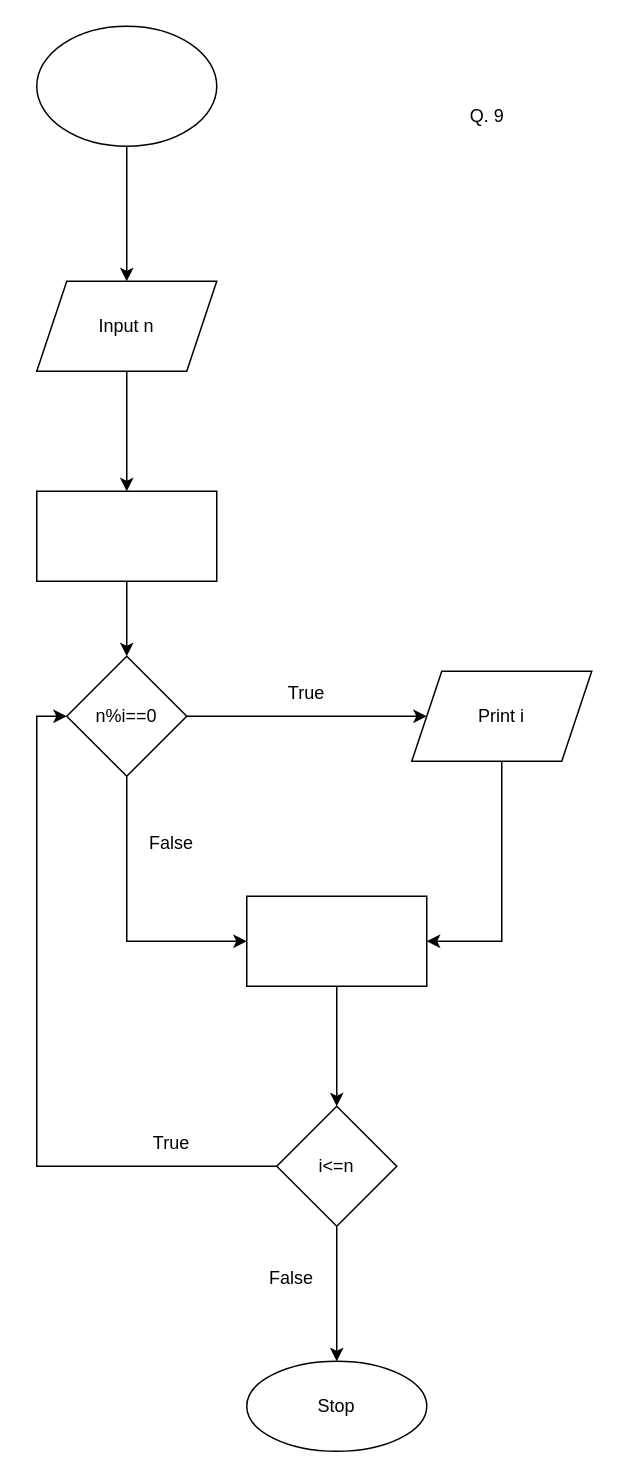
The diagram is 618 pixels wide and 1478 high, and some of its shapes have lost their labels. Here are the shapes that lost their labels. From the top down, the centre of each, then its label:
At [126,85]: "Start".
At [126,535]: "i=1".
At [336,940]: "i++".
